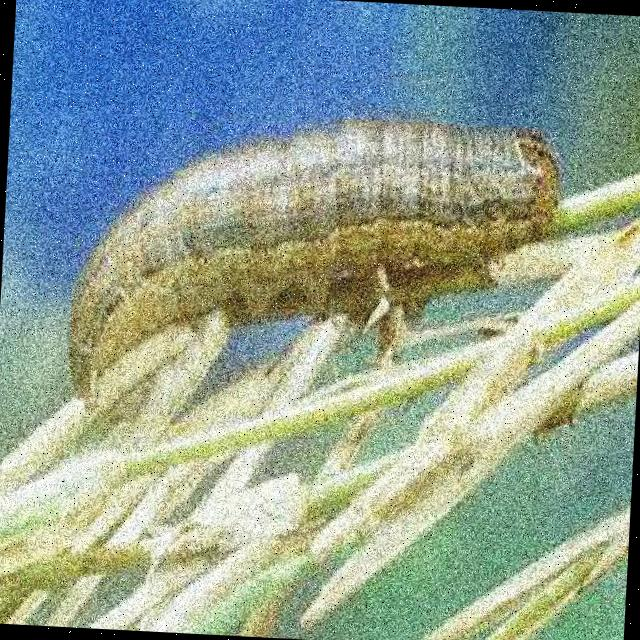worm: (63, 100, 569, 437)
